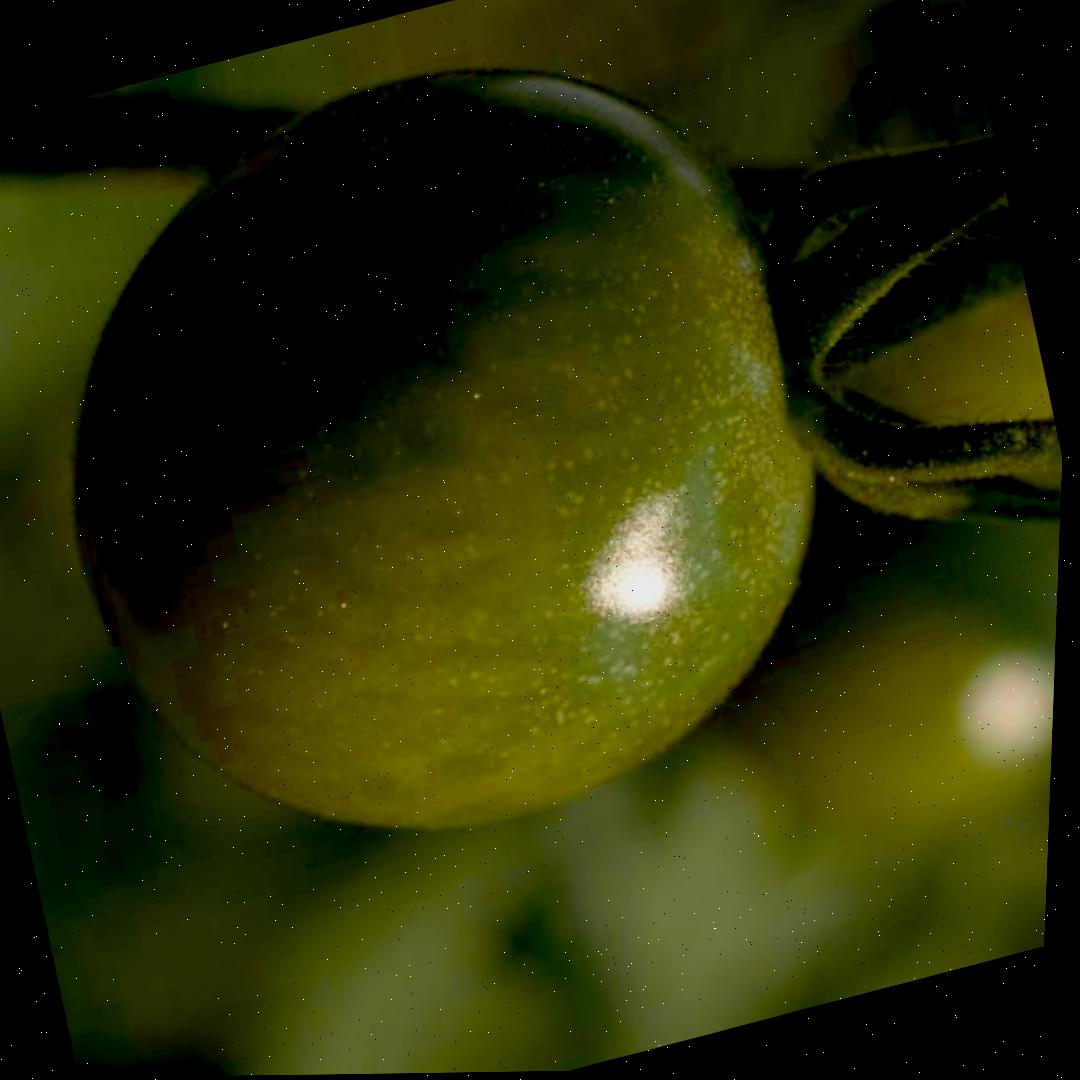mentah: (0, 0, 907, 911)
